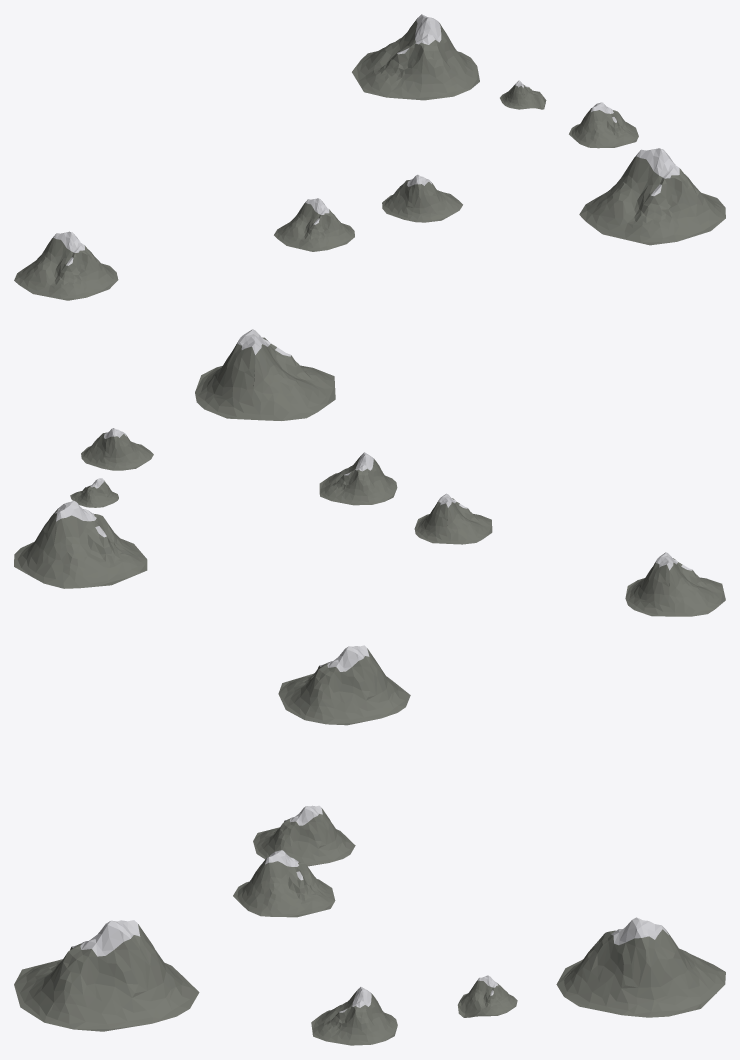
File: Model_mountain 1.fbx
The picture shows the model from 3 angles, top to bottom: view 1: azimuth 30°, elevation 25°; view 2: azimuth 150°, elevation 25°; view 3: azimuth 270°, elevation 25°; orthographic projection. The views are drawn at different scales.
Visible parts, largest first — view 1: Model_mountain 7, Model_mountain 6, Model_mountain 1, Model_mountain 5, Model_mountain 4, Model_mountain 3, Model_mountain 2; view 2: Model_mountain 7, Model_mountain 6, Model_mountain 1, Model_mountain 4, Model_mountain 5, Model_mountain 3, Model_mountain 2; view 3: Model_mountain 7, Model_mountain 6, Model_mountain 1, Model_mountain 4, Model_mountain 5, Model_mountain 3, Model_mountain 2.
Part boxes in pixels (<box>): Model_mountain 7: <box>579,148,725,245</box>; Model_mountain 6: <box>352,14,479,100</box>; Model_mountain 1: <box>14,231,118,300</box>; Model_mountain 5: <box>274,198,354,251</box>; Model_mountain 4: <box>382,174,462,222</box>; Model_mountain 3: <box>569,102,638,148</box>; Model_mountain 2: <box>500,80,546,109</box>; Model_mountain 7: <box>195,329,335,420</box>; Model_mountain 6: <box>14,501,147,588</box>; Model_mountain 1: <box>625,552,725,616</box>; Model_mountain 4: <box>319,452,397,505</box>; Model_mountain 5: <box>414,493,492,544</box>; Model_mountain 3: <box>81,428,153,470</box>; Model_mountain 2: <box>70,478,118,507</box>; Model_mountain 7: <box>14,920,199,1031</box>; Model_mountain 6: <box>556,917,725,1017</box>; Model_mountain 1: <box>278,645,410,725</box>; Model_mountain 4: <box>233,850,335,917</box>; Model_mountain 5: <box>253,805,355,866</box>; Model_mountain 3: <box>311,987,397,1045</box>; Model_mountain 2: <box>457,975,517,1017</box>.
Bounding box in the file's own units: 46564 × 5354 × 36268.
